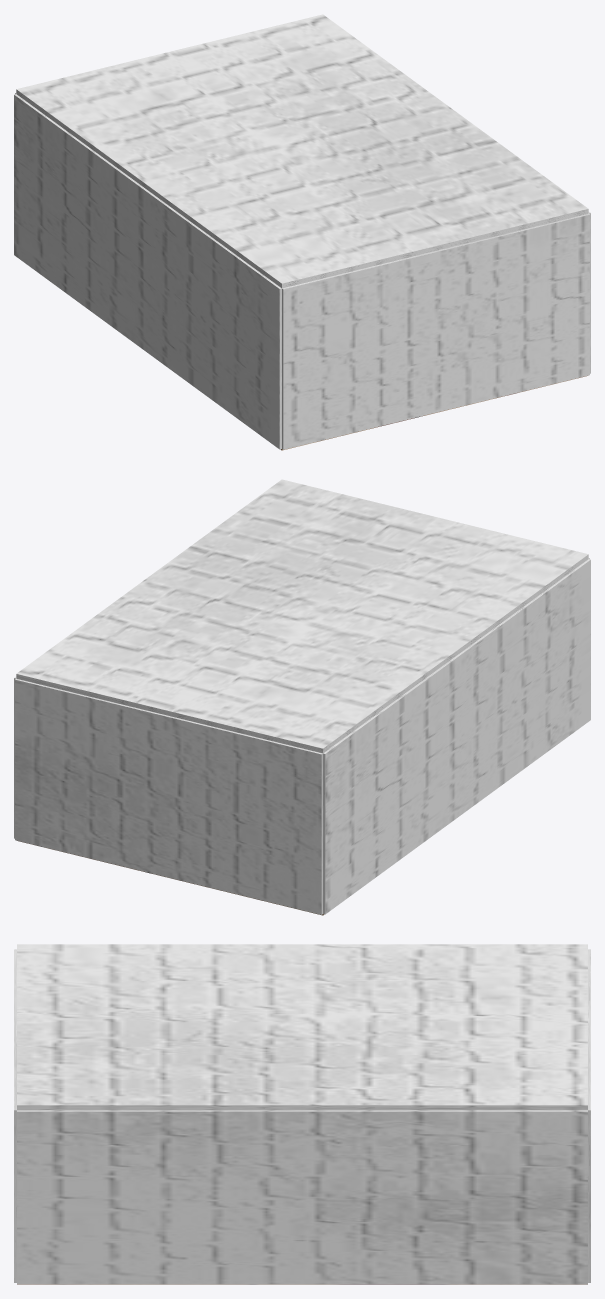
Rendered from ComplexBuilding.obj.
3 views of the same model, one above another, from view 1: azimuth 30°, elevation 25°; view 2: azimuth 150°, elevation 25°; view 3: azimuth 270°, elevation 25° (orthographic). The views are drawn at different scales.
Visible parts, largest first — view 1: Roof, BackWall, LeftWall; view 2: Roof, FrontWall, LeftWall; view 3: RightWall, Roof, BackWall, FrontWall, Floor.
Boxes of the visible parts, left/top/right/bottom form: Roof: left=16, top=14, right=588, bottom=288; BackWall: left=282, top=213, right=589, bottom=449; LeftWall: left=14, top=94, right=281, bottom=449; Roof: left=16, top=479, right=588, bottom=753; FrontWall: left=15, top=678, right=322, bottom=914; LeftWall: left=323, top=559, right=590, bottom=914; RightWall: left=17, top=1110, right=587, bottom=1284; Roof: left=17, top=944, right=587, bottom=1110; BackWall: left=14, top=949, right=16, bottom=1282; FrontWall: left=588, top=949, right=590, bottom=1282; Floor: left=17, top=1284, right=587, bottom=1284.
Size of the model in its own units: 20.3 by 10.4 by 30.3.
